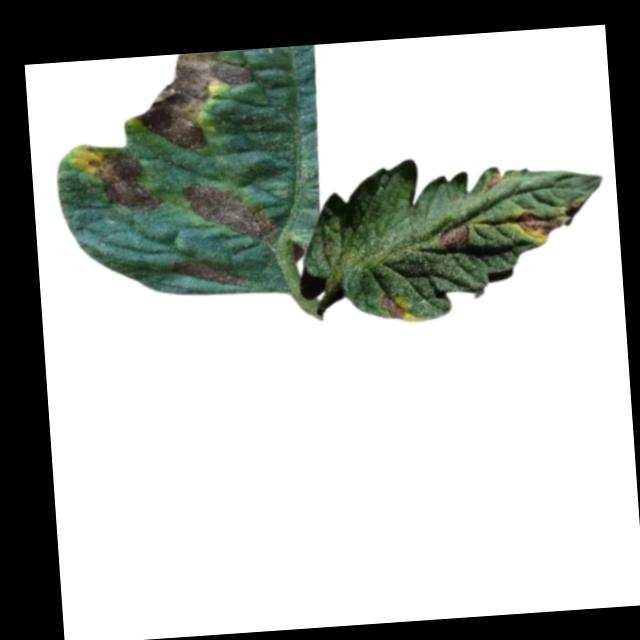Early_blight: (129, 49, 261, 153), (177, 173, 276, 247), (84, 147, 162, 217), (172, 255, 242, 295), (513, 204, 561, 244), (431, 221, 471, 249), (377, 291, 409, 320), (480, 169, 507, 191)
